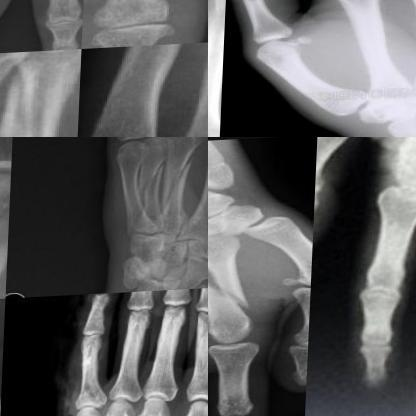fracture: (208, 259, 267, 323), (162, 163, 199, 216), (133, 166, 167, 218)
